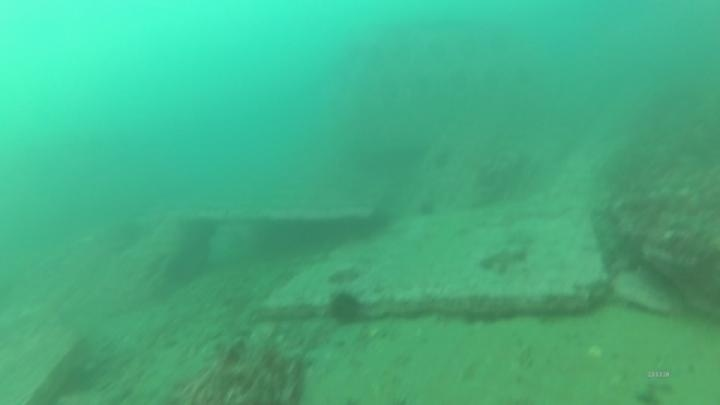echinus: (325, 288, 367, 329)
